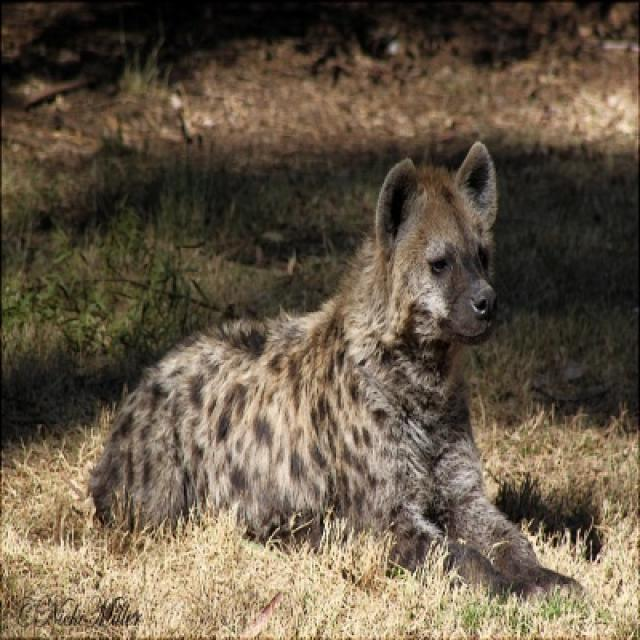hyena: (86, 141, 565, 597)
